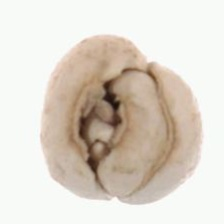L3: (67, 60, 174, 200)
L4: (40, 35, 204, 205)
